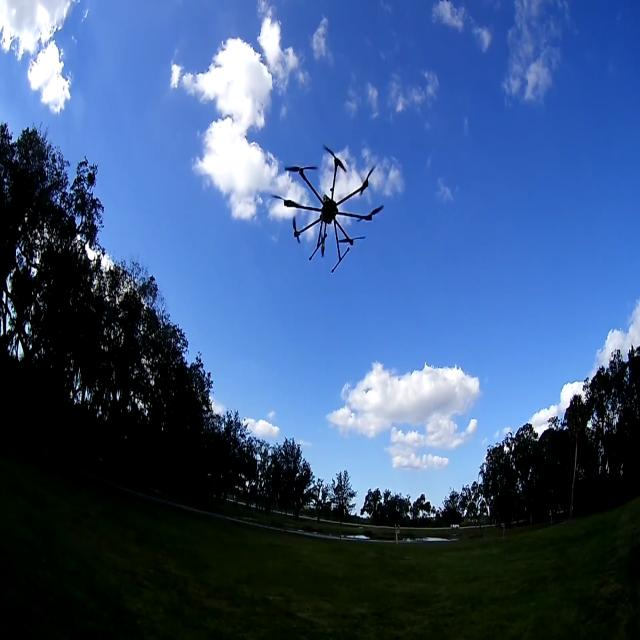drone: (274, 127, 388, 274)
